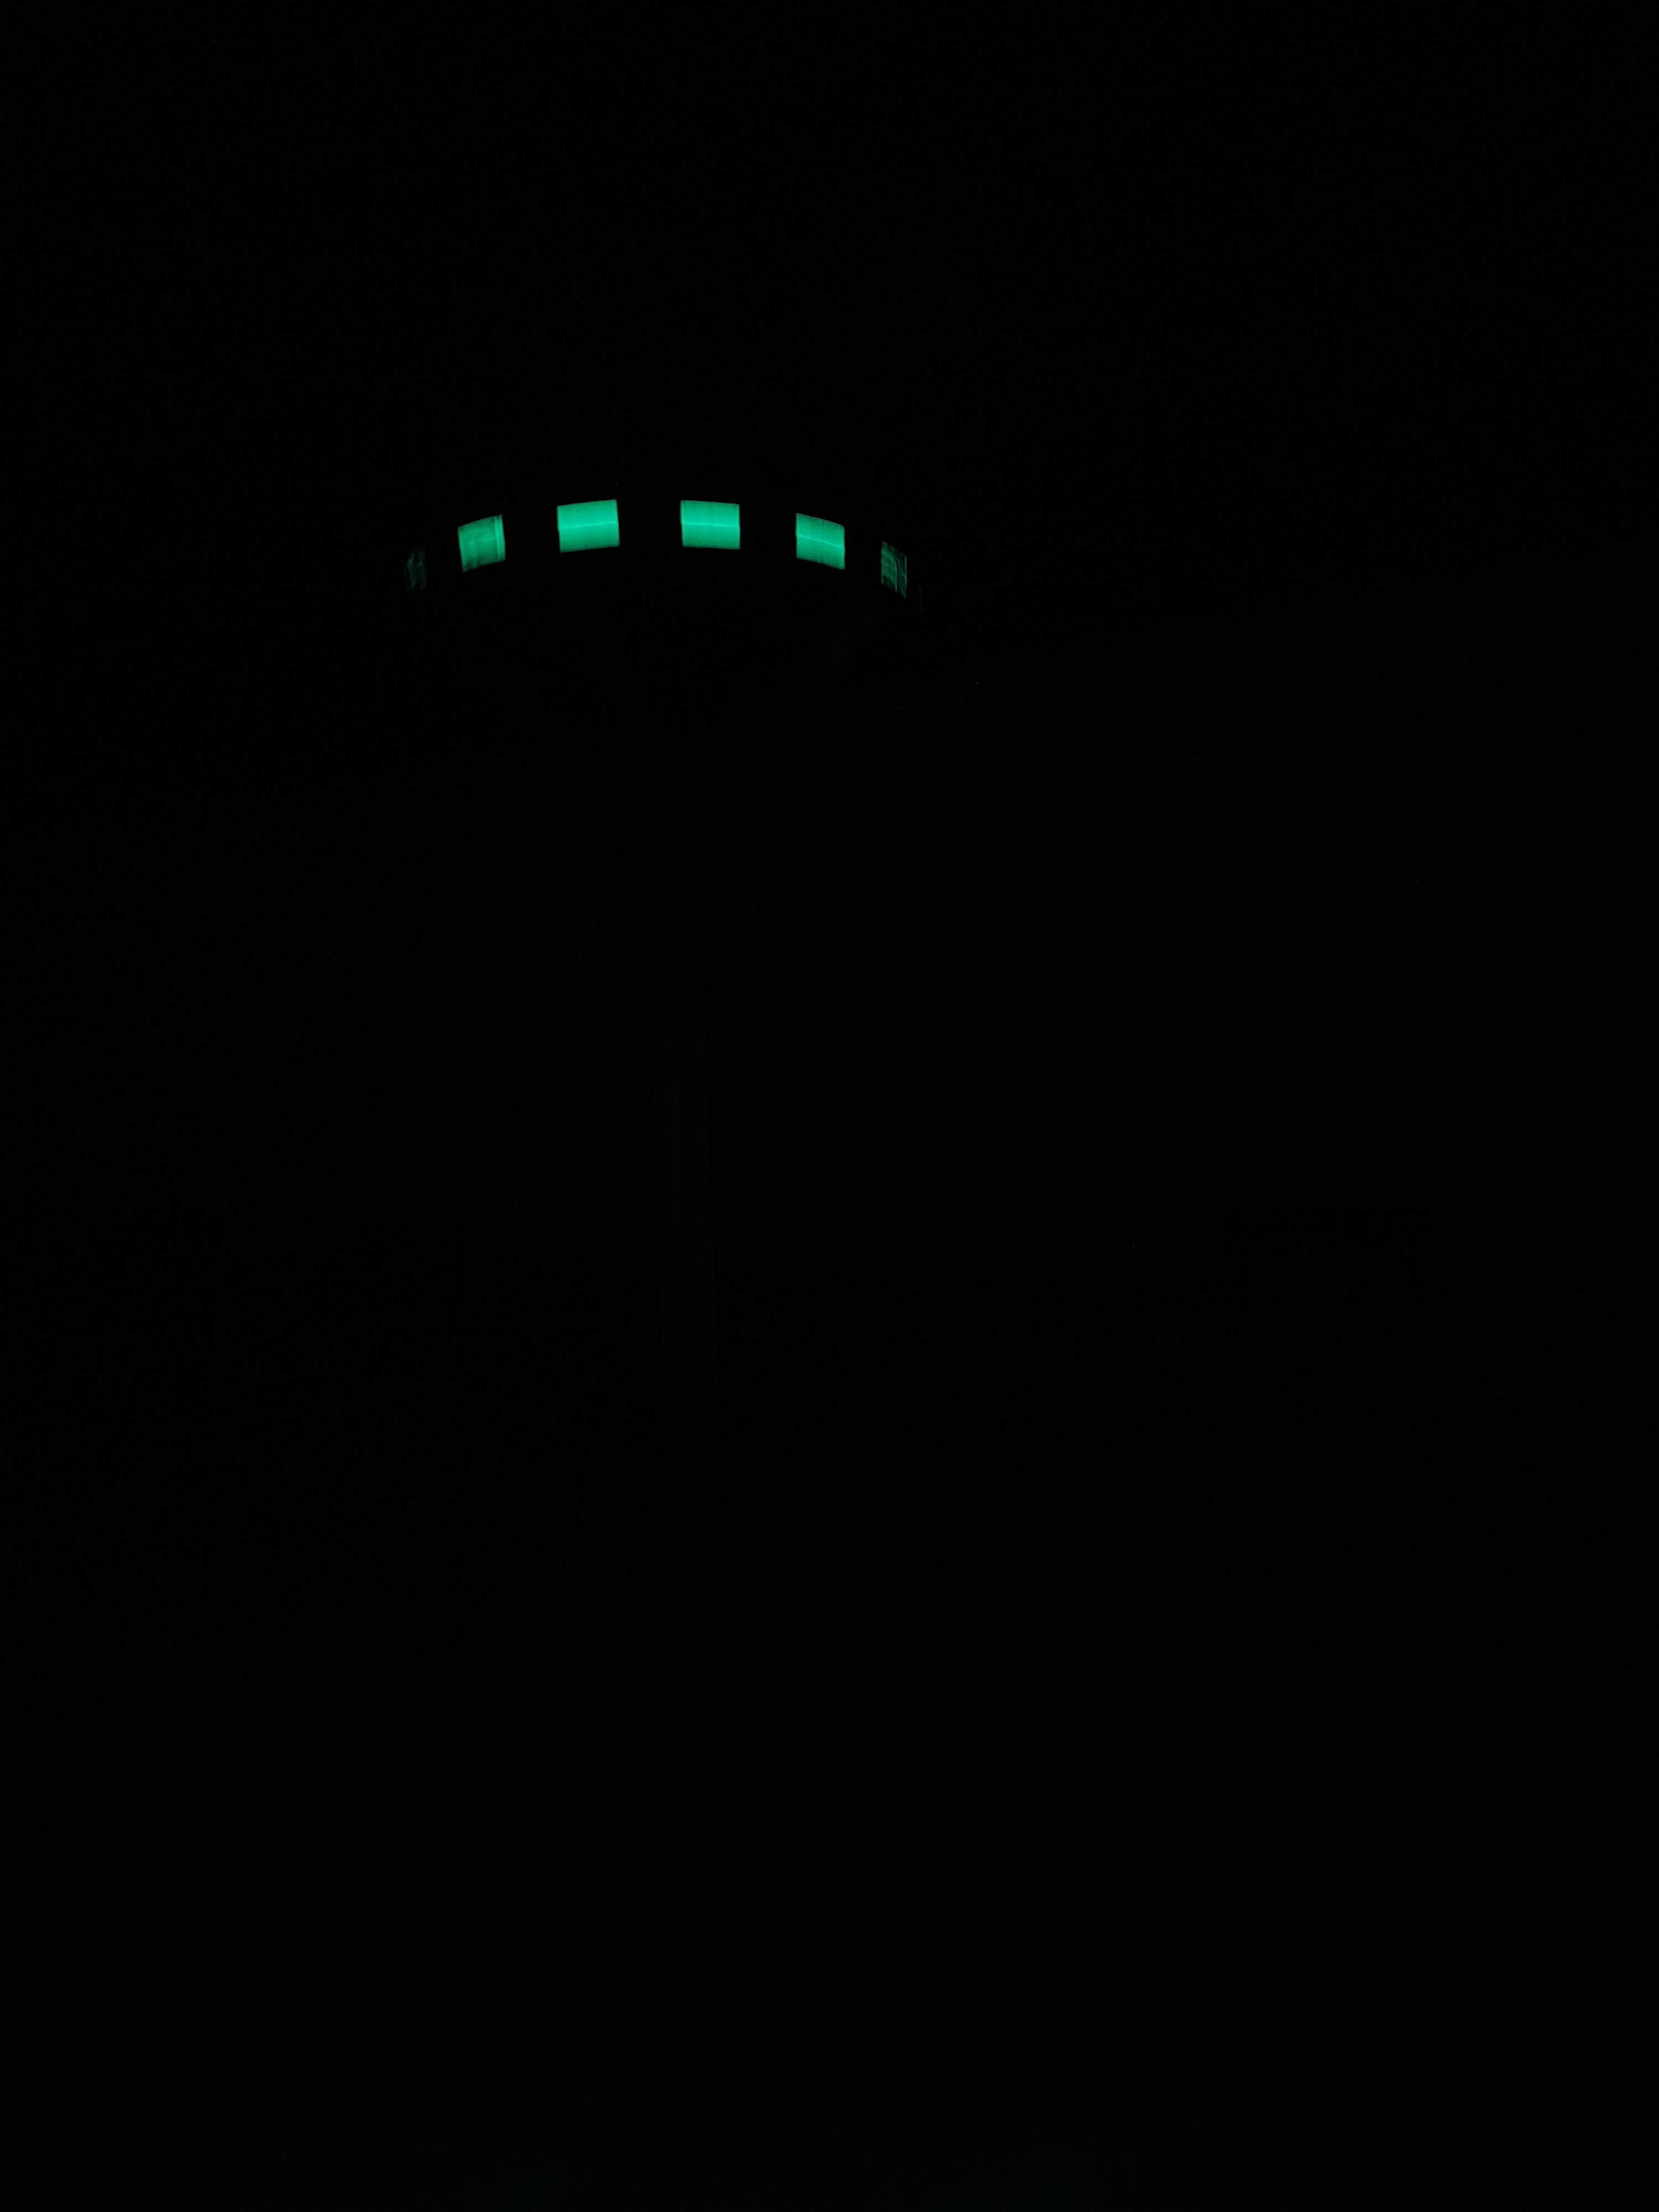hoop: (389, 495, 915, 606)
